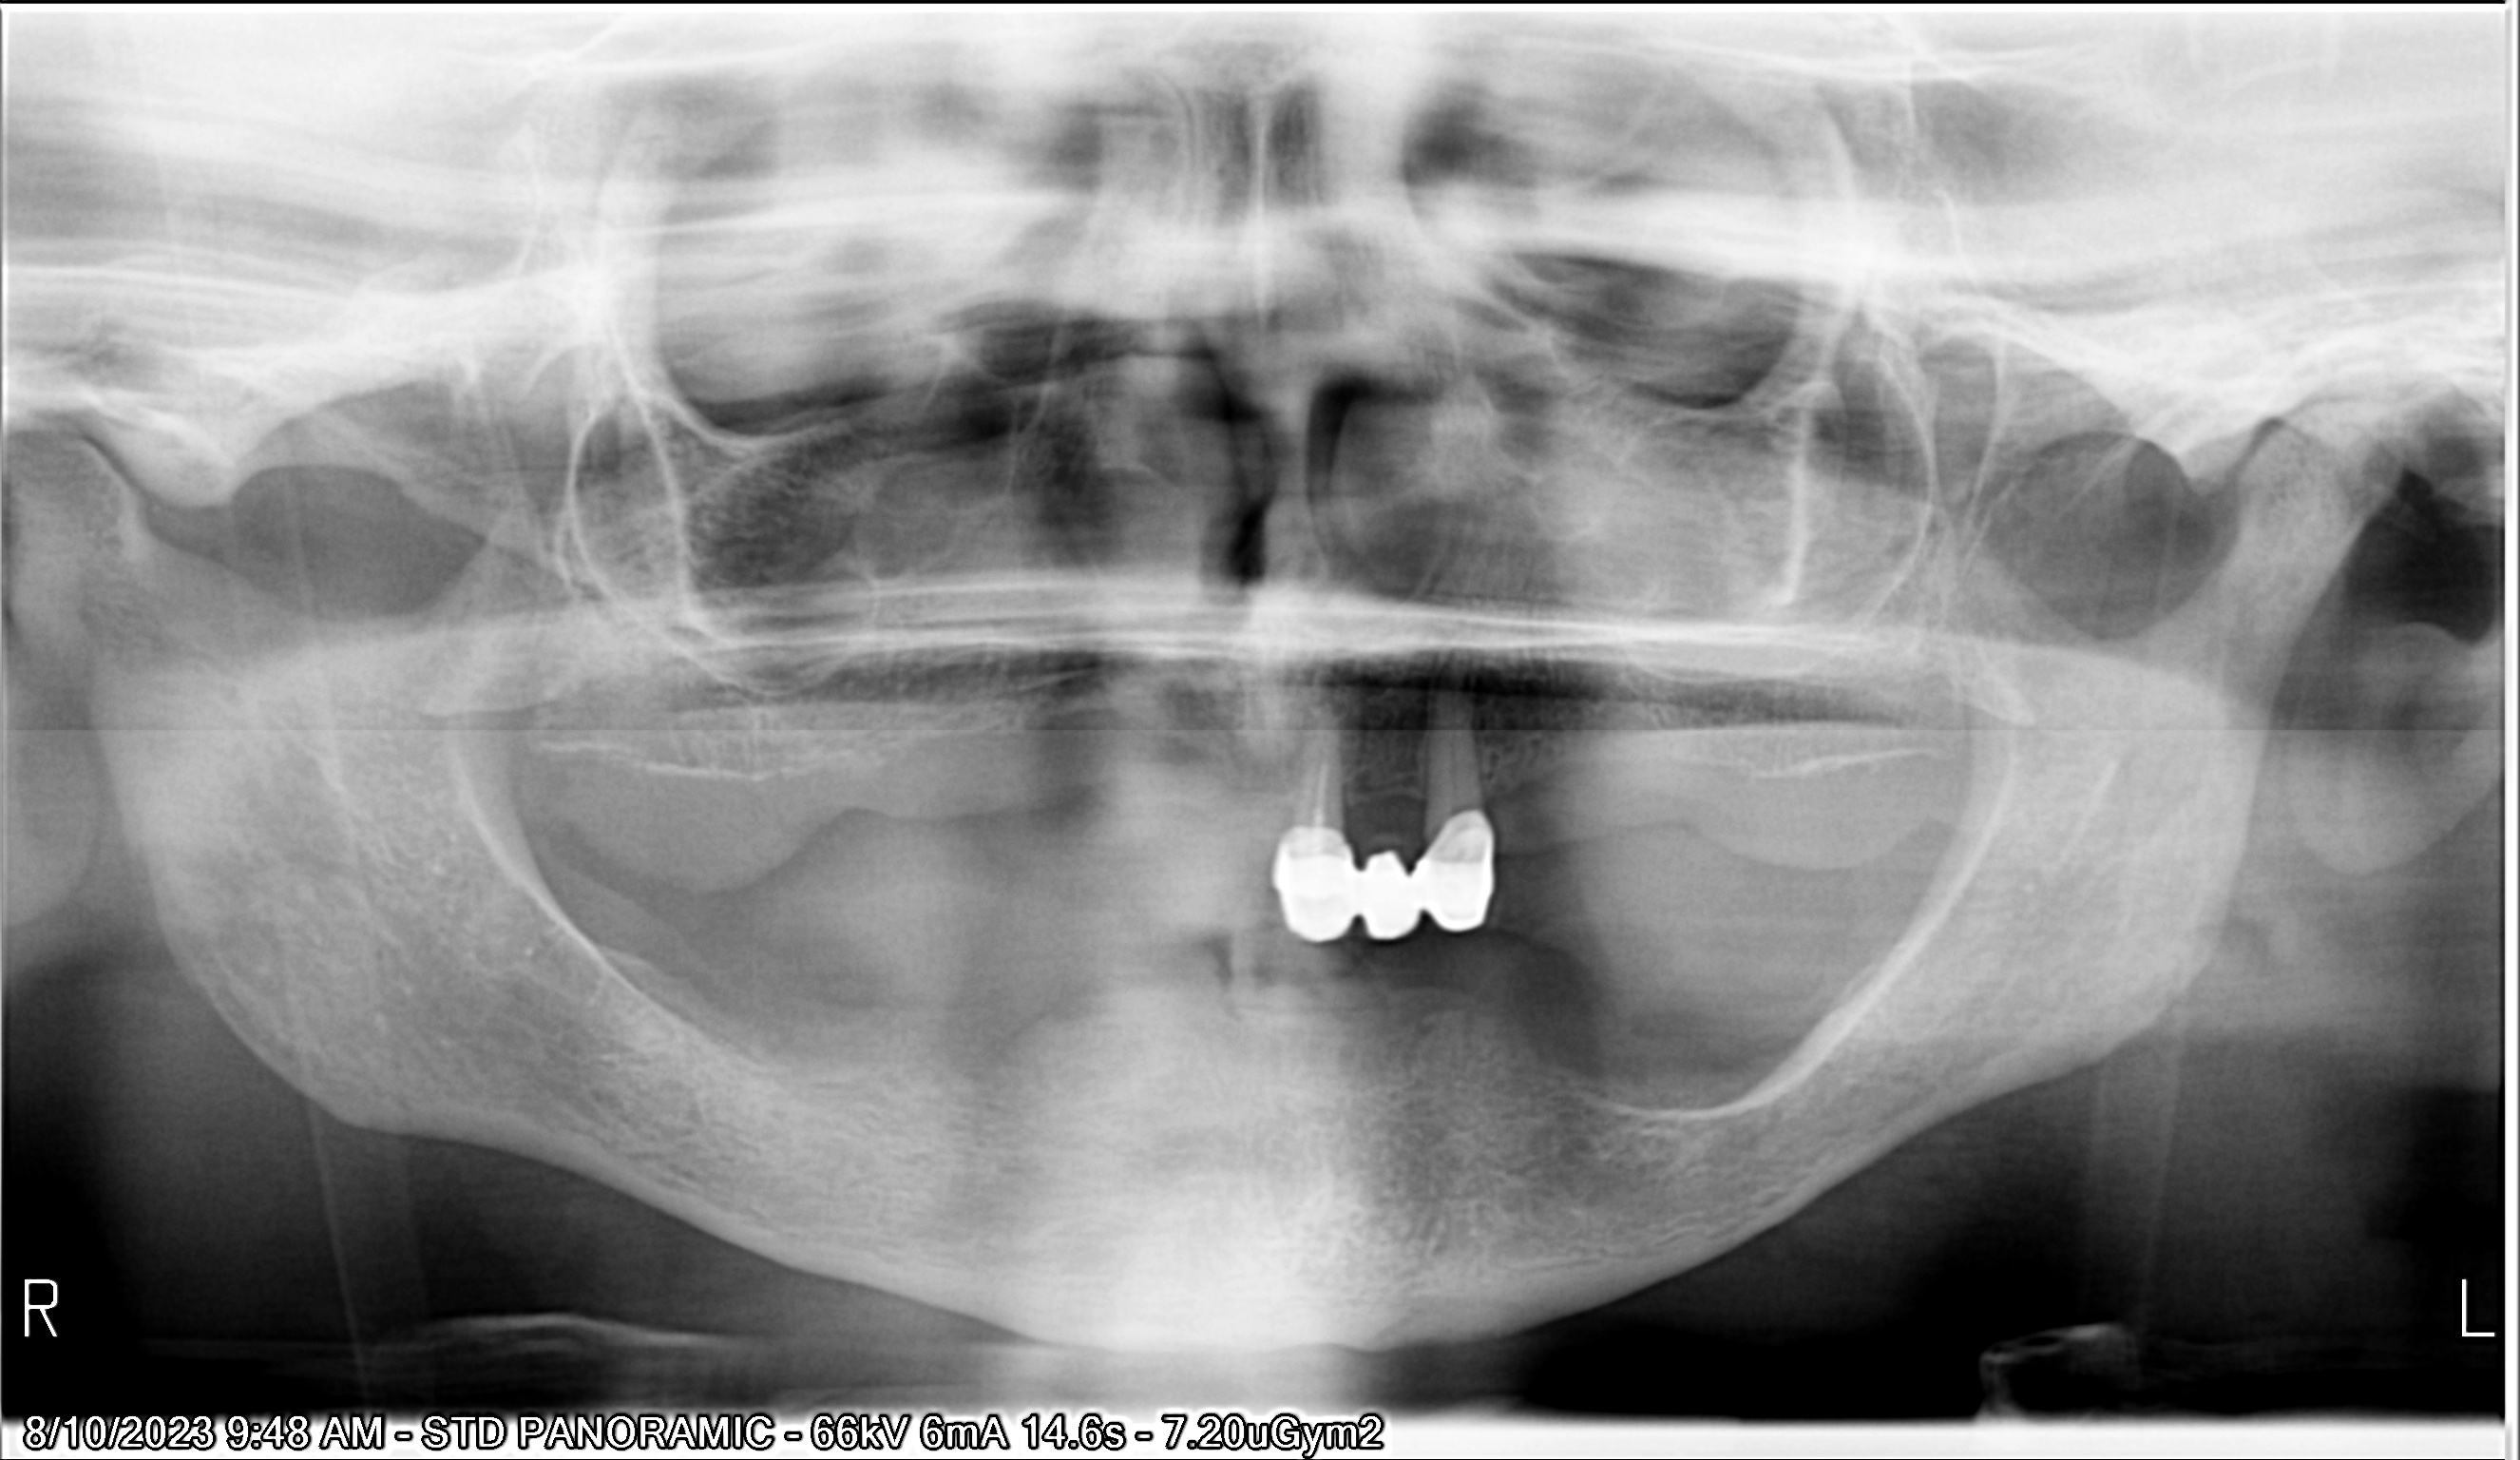END: (1313, 749, 1334, 853)
PRR: (1270, 798, 1501, 940)
ROT: (1226, 939, 1259, 1022)
